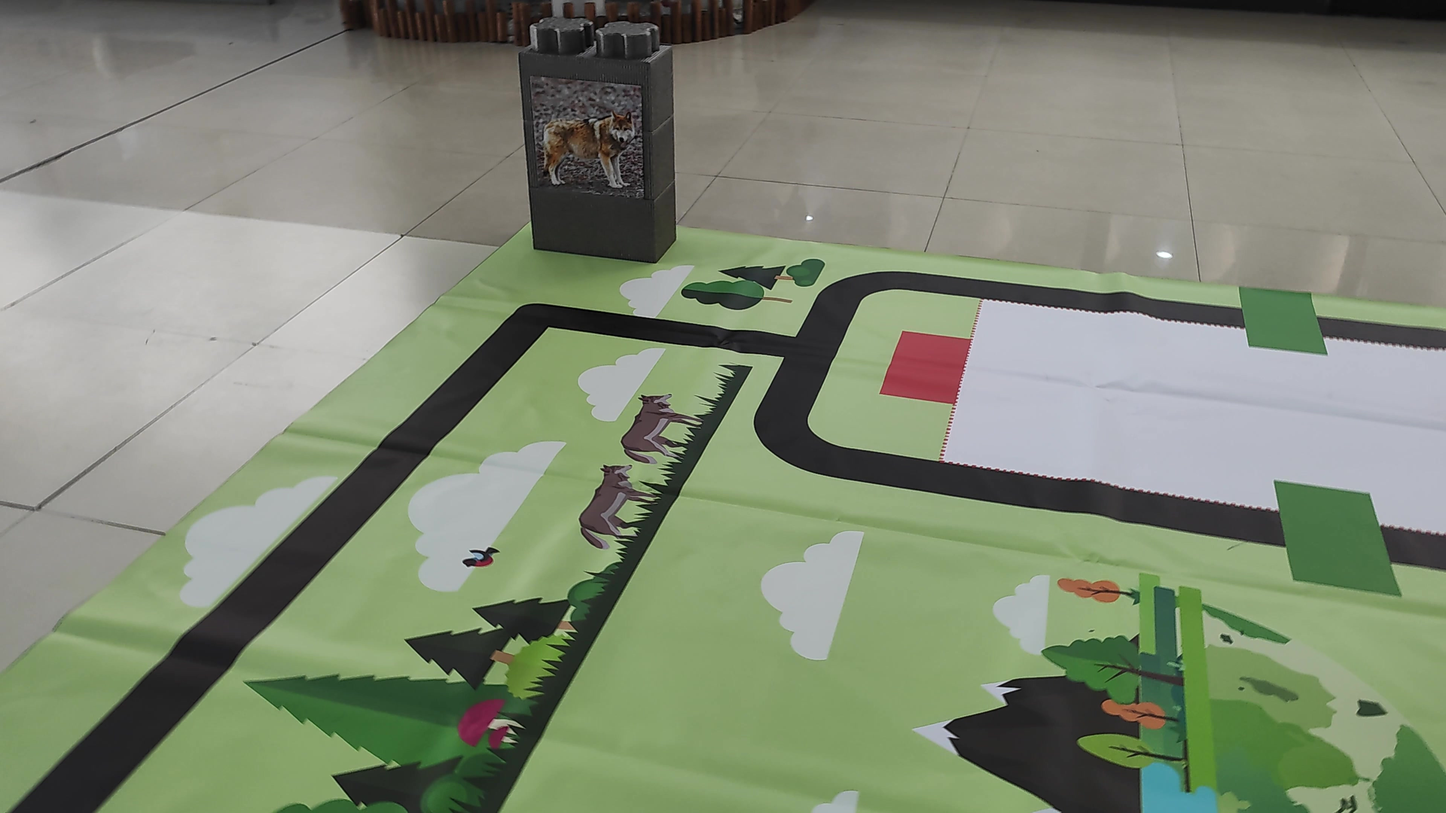wolf: (529, 76, 646, 193)
